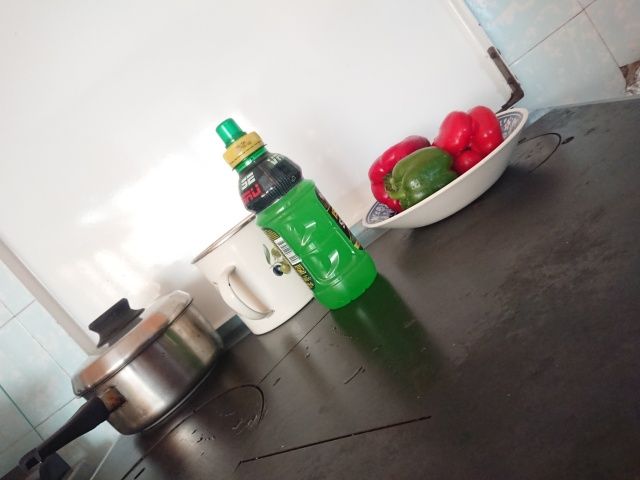Vindi Iso Sport Lemon-Grapefruit 500mL: (213, 116, 380, 313)
